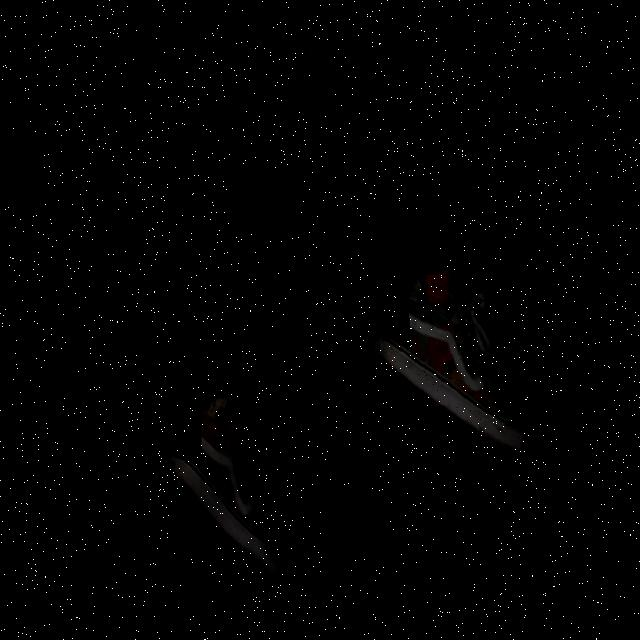shoe: (336, 236, 547, 483), (135, 372, 304, 597)
